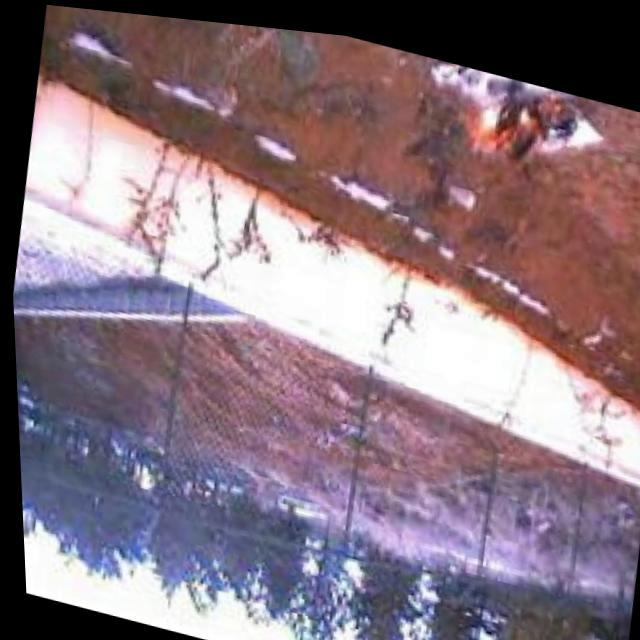fire: (439, 52, 587, 178)
